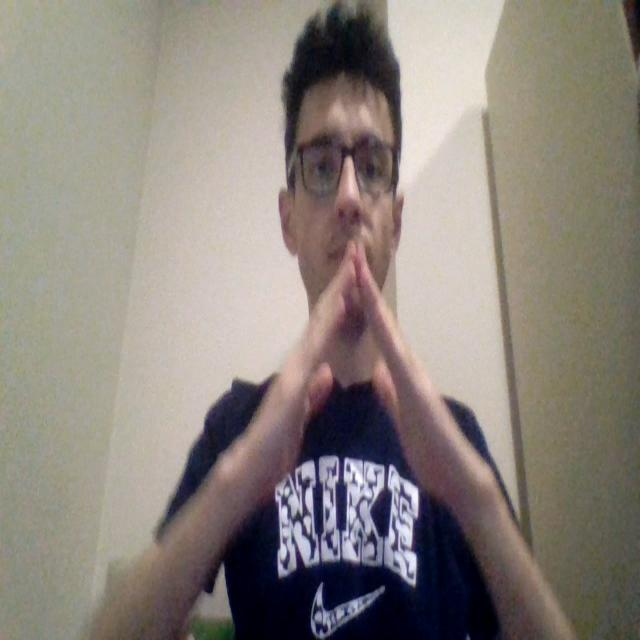house: (243, 243, 466, 509)
